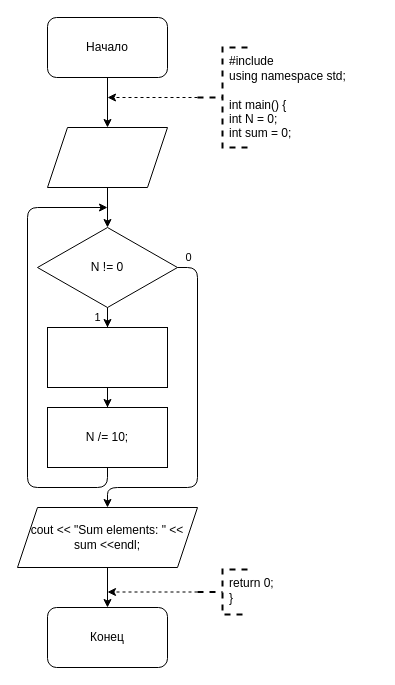
Image size: 395x685. Some labels were removed from this diagram. Here are the shapes that lost their labels. From the top down, the centre of each, then its label:
At (x=107, y=157): "cin >> N;".
At (x=107, y=357): "sum += N % 10;".
